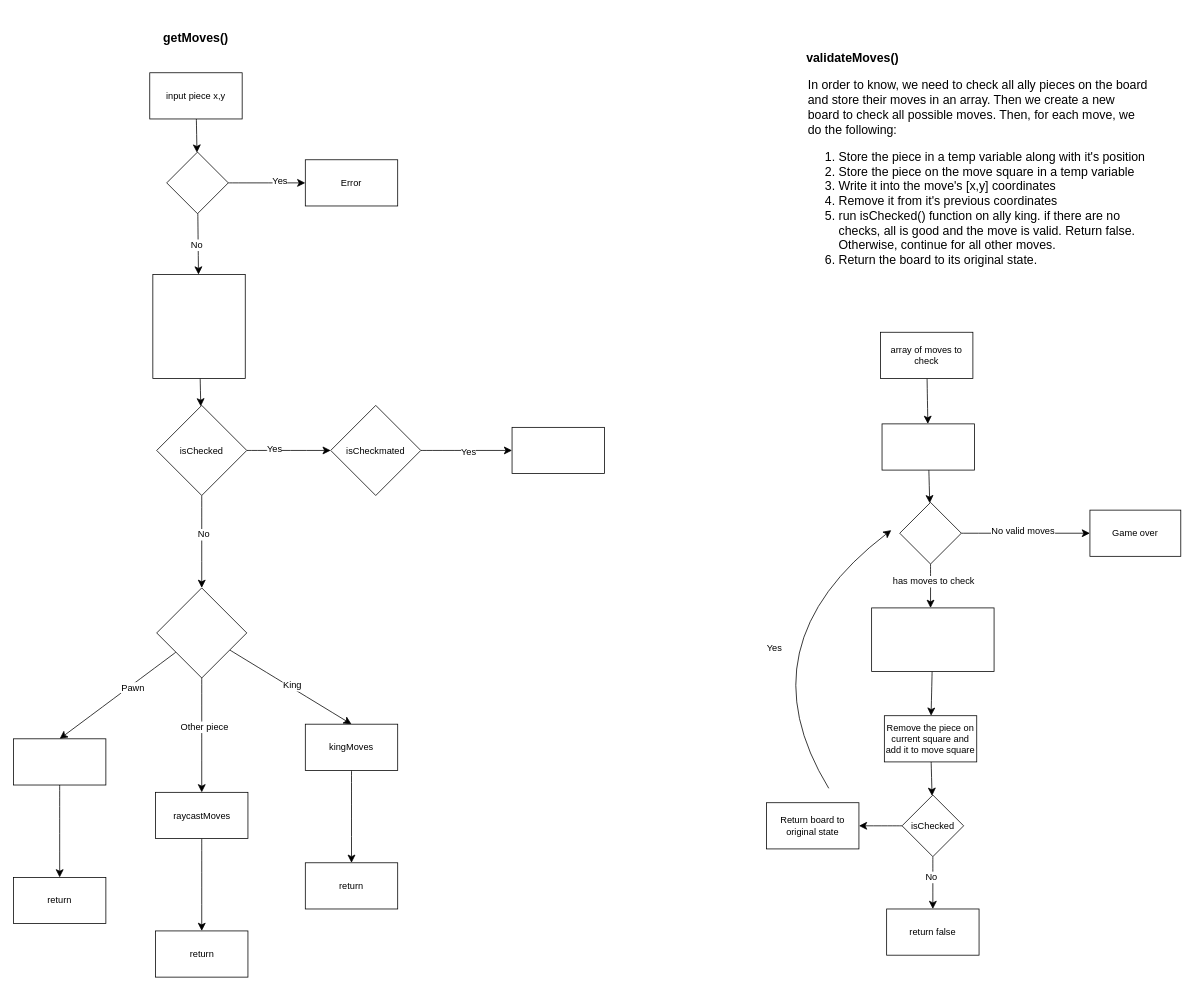
Image size: 1194x990. Some labels were removed from this diagram. Each missing label, with the centre of its shape:
Create a new chessboard for checking moves: the point at 927,446
Declare variables for the piece color type moves limit id: the point at 198,326
forEach move: the point at 930,533
Game end: the point at 557,450
isEmpty(): the point at 197,182
pawnMoves(): the point at 59,761
pieceType: the point at 201,632
Store piece on current square and on the checking square in a temp array: the point at 932,639
